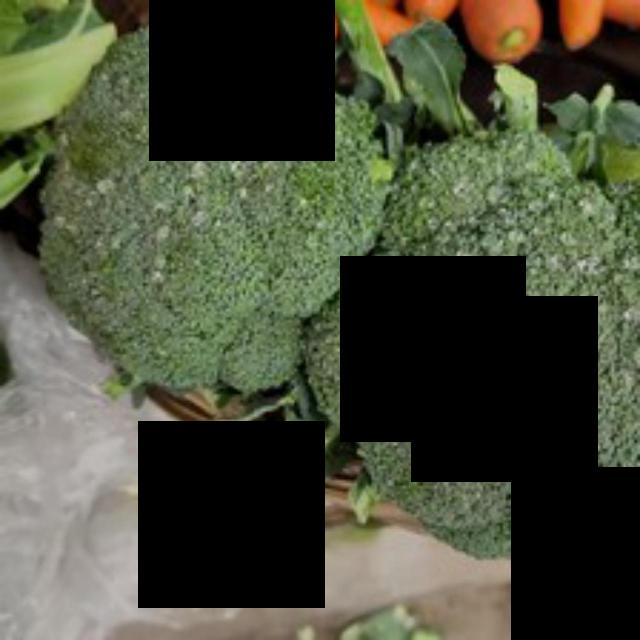broccoli: (38, 0, 390, 407)
